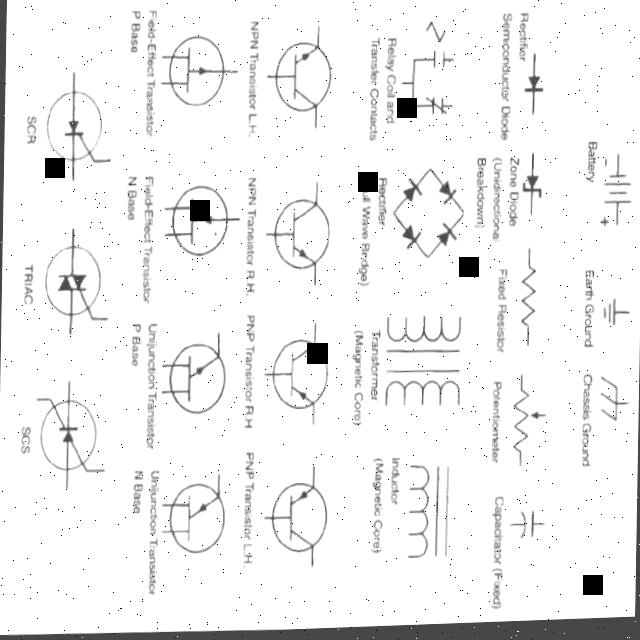capacitor: (508, 506, 547, 545), (424, 94, 447, 127), (427, 50, 453, 77)
diode: (34, 385, 104, 492), (40, 239, 106, 330), (46, 89, 110, 174), (514, 173, 545, 209), (518, 72, 548, 109), (434, 180, 462, 215), (398, 174, 424, 208), (399, 220, 422, 254), (434, 222, 458, 250)
ground: (595, 369, 630, 434), (597, 295, 628, 335)
inductor: (397, 458, 451, 572), (378, 361, 468, 428), (382, 311, 472, 364)
mosfet: (156, 330, 233, 427), (160, 461, 230, 565), (160, 24, 234, 111), (160, 176, 237, 256)
resistor: (506, 378, 550, 468), (512, 265, 542, 339)
source: (600, 151, 632, 240)
transformer: (376, 305, 474, 430)
transistor: (264, 184, 336, 289), (266, 25, 334, 133), (260, 473, 332, 563), (264, 330, 332, 419)
